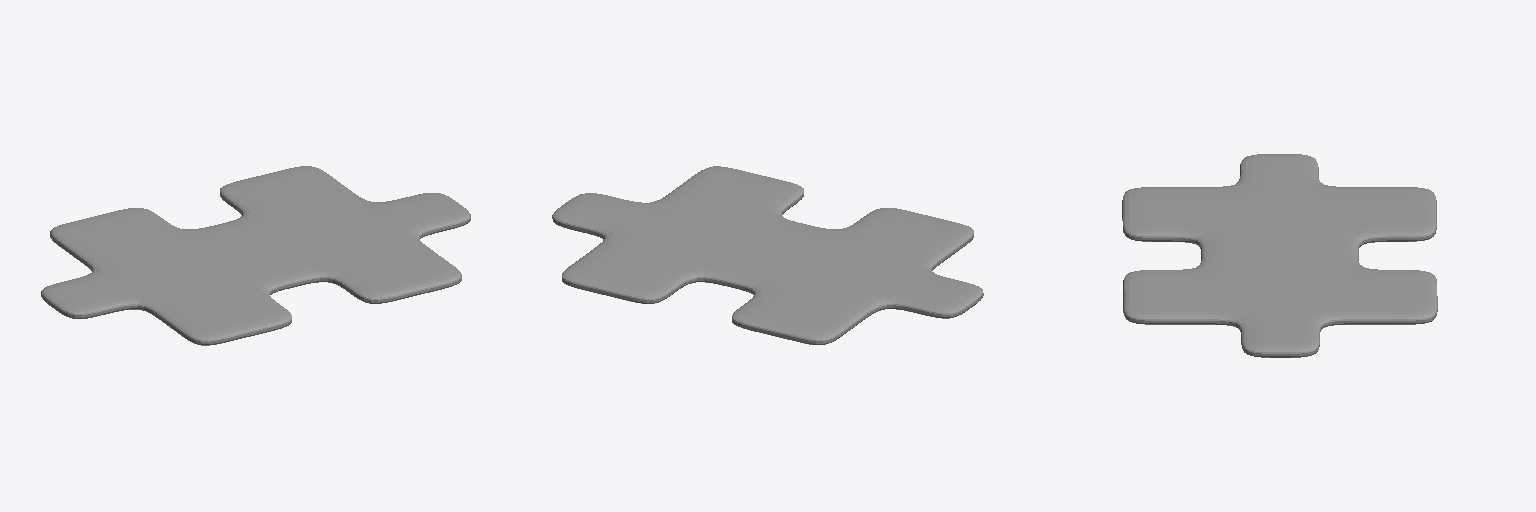
3 renders of one model, left to right at view 1: azimuth 30°, elevation 25°; view 2: azimuth 150°, elevation 25°; view 3: azimuth 270°, elevation 25°, orthographic.
Parts seen in each view (by area): view 1: Puzzle.004_Puzzle.004_GoldenEggMaterial.001; view 2: Puzzle.004_Puzzle.004_GoldenEggMaterial.001; view 3: Puzzle.004_Puzzle.004_GoldenEggMaterial.001.
Part boxes in pixels (bbox=[...]): Puzzle.004_Puzzle.004_GoldenEggMaterial.001: bbox=[41, 166, 470, 345]; Puzzle.004_Puzzle.004_GoldenEggMaterial.001: bbox=[552, 166, 983, 344]; Puzzle.004_Puzzle.004_GoldenEggMaterial.001: bbox=[1122, 154, 1437, 357].
Bounding box in the file's own units: 0.375 × 0.0092 × 0.2512.